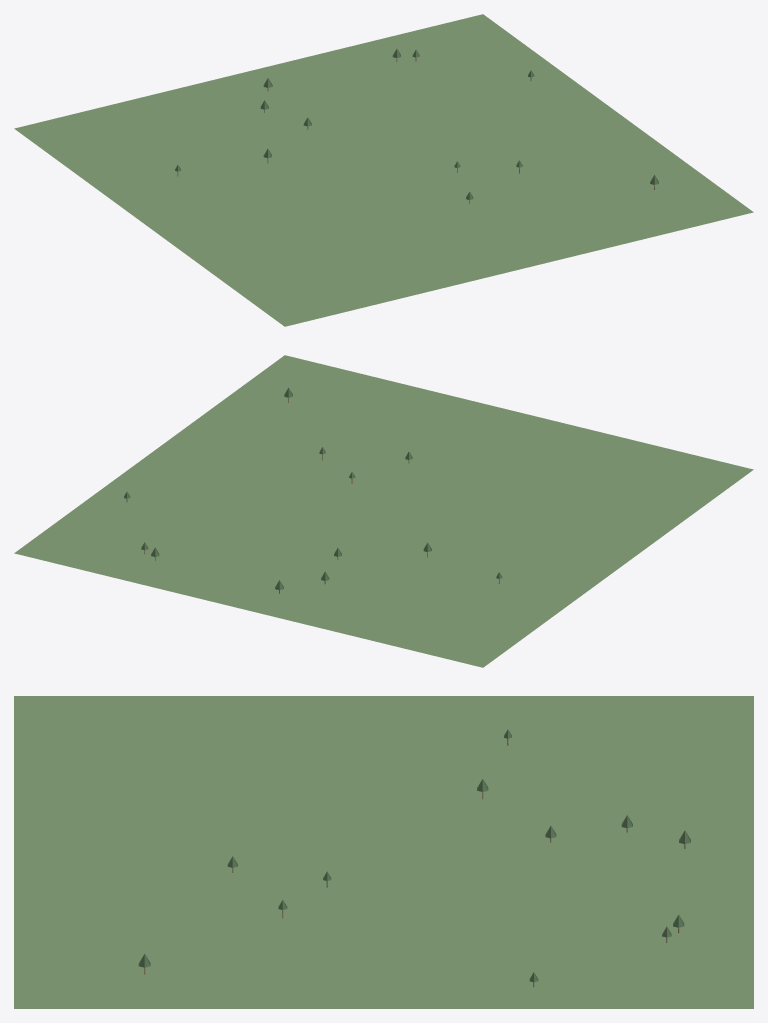
File: T_03_03_render.glb
3 views of the same model, one above another, from view 1: azimuth 30°, elevation 25°; view 2: azimuth 150°, elevation 25°; view 3: azimuth 270°, elevation 25° (orthographic). The views are drawn at different scales.
Visible parts, largest first — view 1: tile_root; view 2: tile_root; view 3: tile_root.
Part boxes in pixels (bbox=[...]): tile_root: bbox=[14, 14, 753, 326]; tile_root: bbox=[14, 355, 753, 667]; tile_root: bbox=[14, 696, 753, 1008].
Bounding box in the file's own units: 256 × 7.99 × 256.
